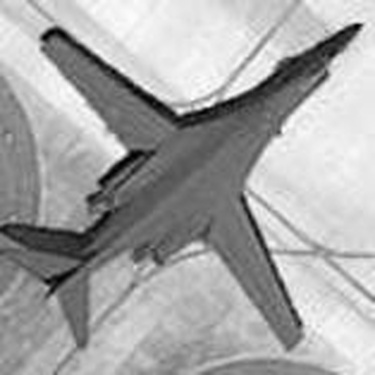airplane: (1, 18, 371, 352)
